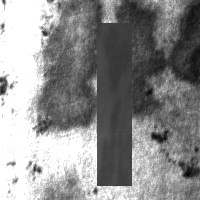inclusion: (97, 23, 132, 186), (176, 154, 200, 180), (149, 126, 170, 145)
patches: (39, 1, 102, 132), (108, 1, 165, 115), (168, 1, 200, 85)
